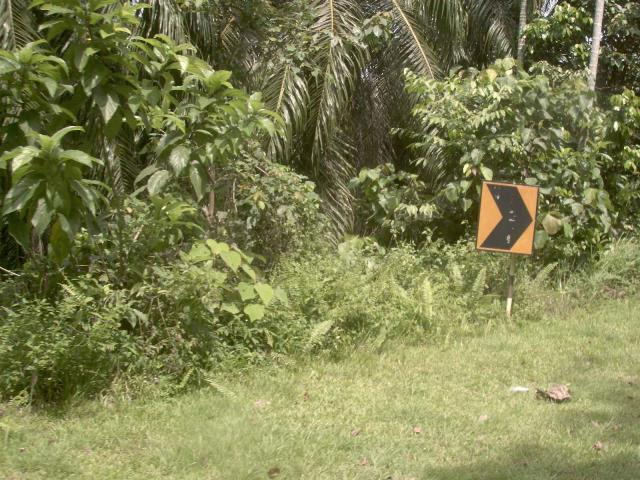traffic_sign: (465, 170, 548, 264)
